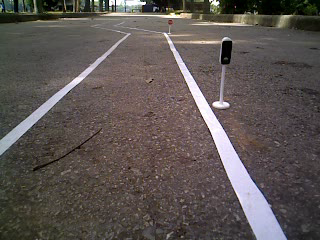Blue: (219, 37, 234, 67)
